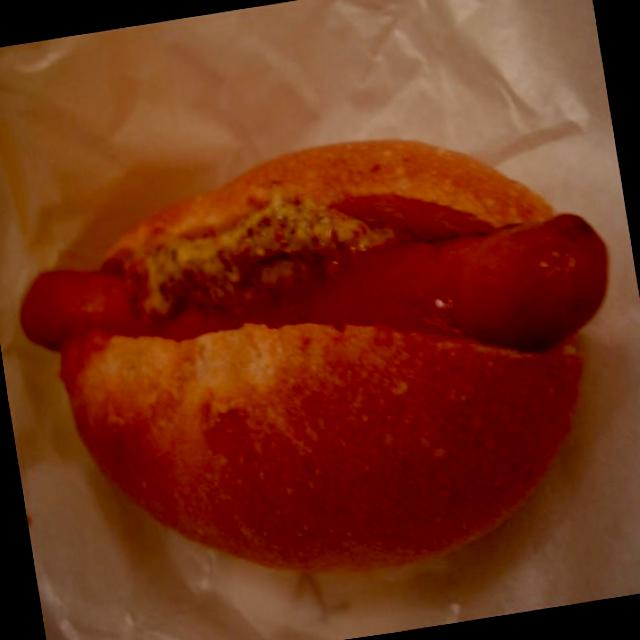Hot Dog: (0, 80, 640, 637)
